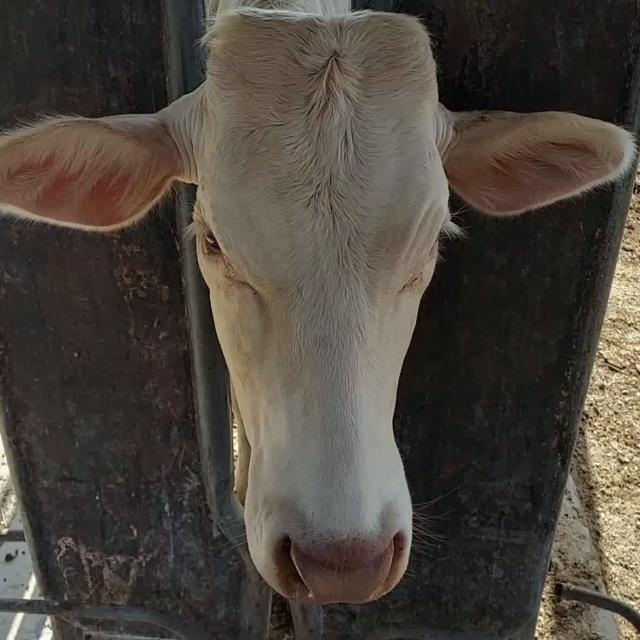cowFace: (195, 12, 448, 601)
